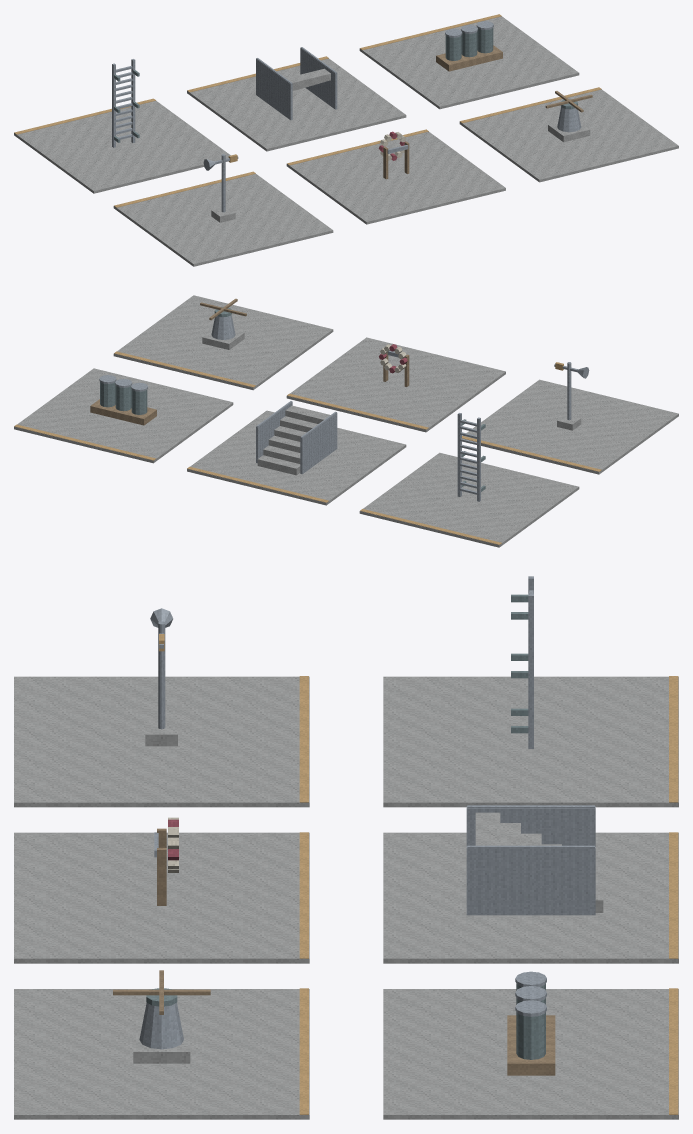
File: level_blockout_kit_wld_14_p04.glb
The picture shows the model from 3 angles, top to bottom: view 1: azimuth 30°, elevation 25°; view 2: azimuth 150°, elevation 25°; view 3: azimuth 270°, elevation 25°; orthographic projection. The views are drawn at different scales.
Visible parts, largest first — view 1: level_blockout_kit_wld_14_p04; view 2: level_blockout_kit_wld_14_p04; view 3: level_blockout_kit_wld_14_p04.
Part boxes in pixels (x1,y1,x2,y2): level_blockout_kit_wld_14_p04: (14,14,678,266); level_blockout_kit_wld_14_p04: (14,295,678,547); level_blockout_kit_wld_14_p04: (14,576,678,1119).
Bounding box in the file's own units: 19.65 × 3.31 × 12.6.
Materials: 7 (7 with a texture image).
